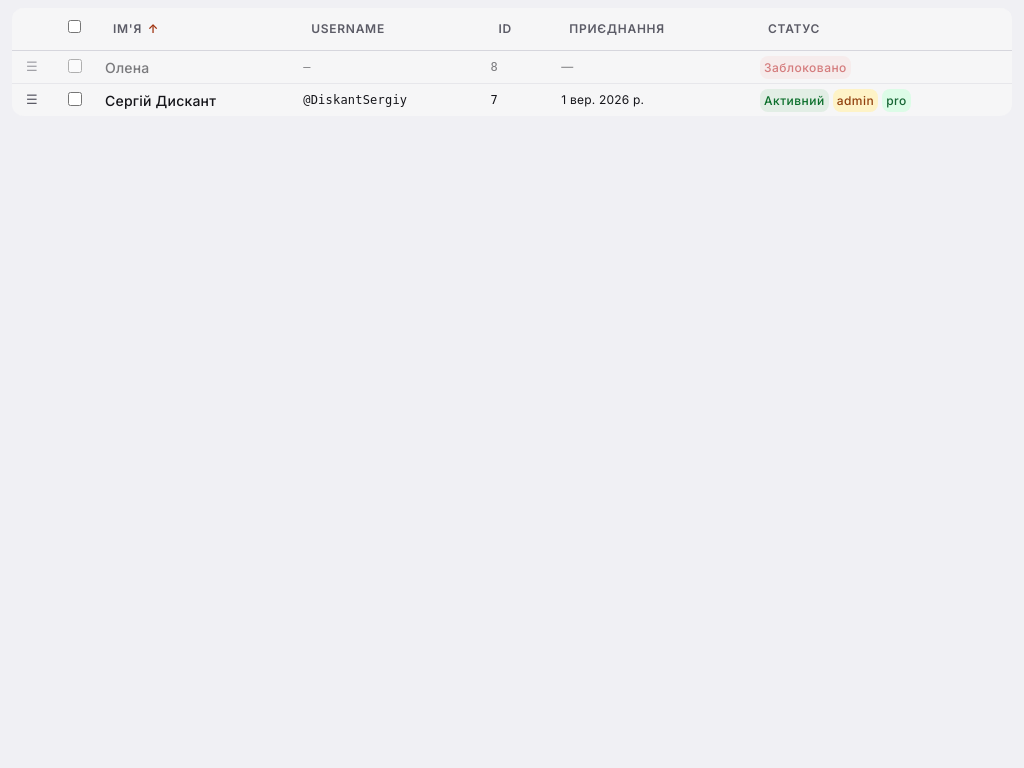
UsersTable › Escape закриває меню
Click the button titled "Дії" next to "Сергій Дискант" at {"x": 32, "y": 100}, box [20,88,44,112]
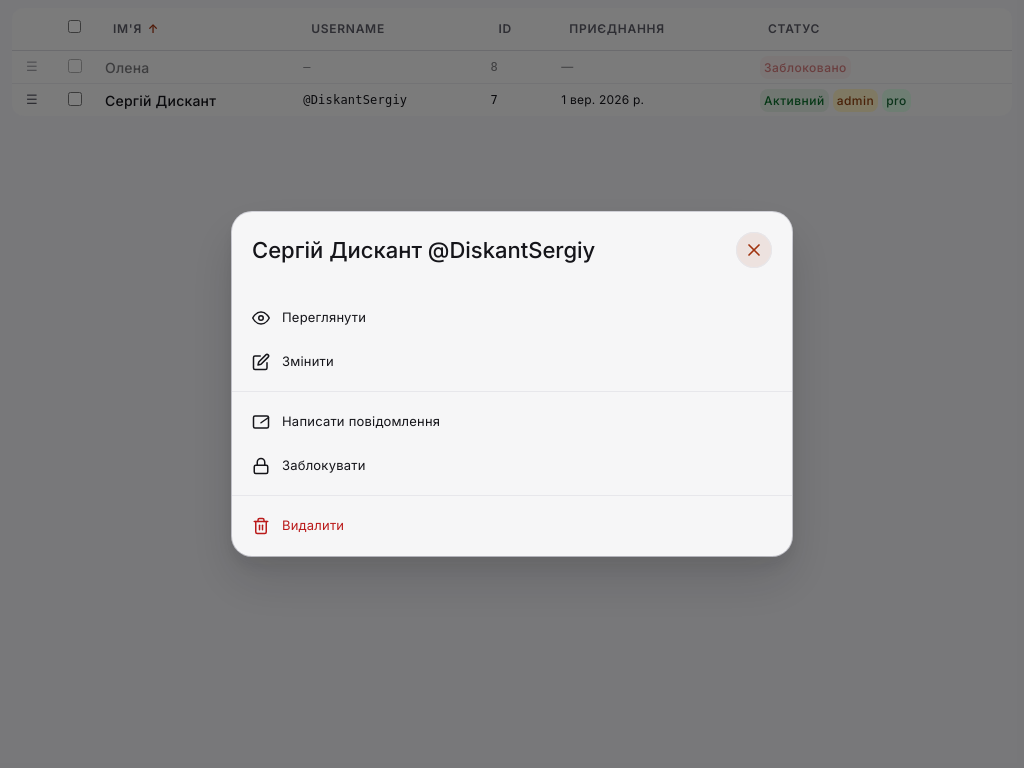
Result: the button "Переглянути" is shown at [232,296,792,340]
Press Escape
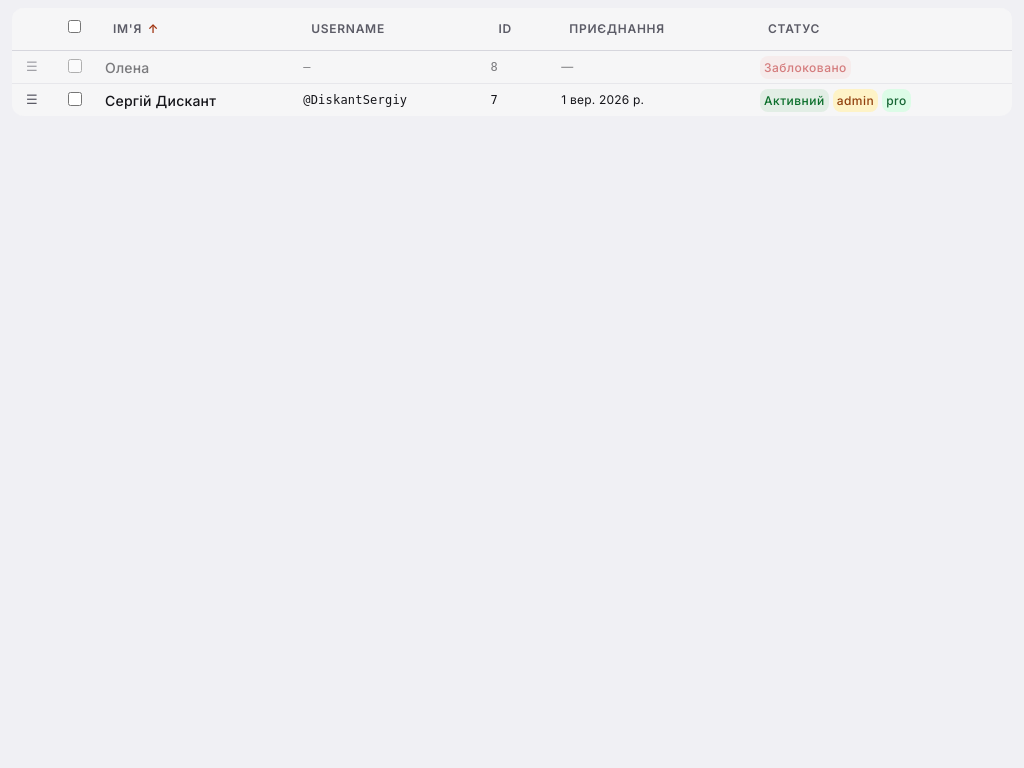
Result: the button "Переглянути" is gone
